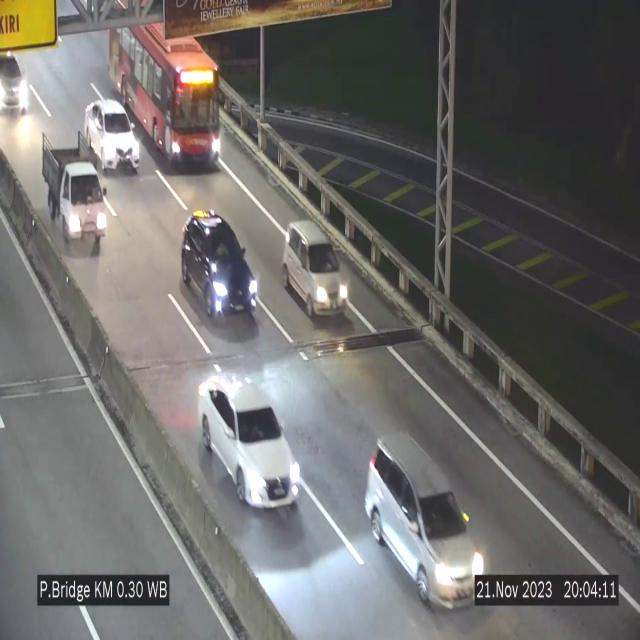Bus: (110, 26, 224, 161)
Car: (365, 432, 489, 608), (198, 372, 298, 507), (180, 209, 260, 327), (282, 221, 350, 321), (86, 100, 140, 172), (0, 50, 36, 121)
Truck: (42, 126, 106, 252)
